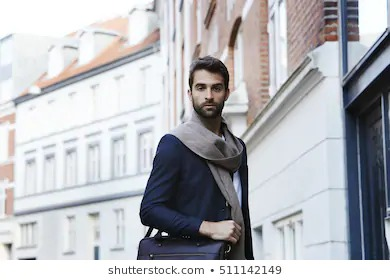F_M_suit jacket: (144, 128, 257, 260)
